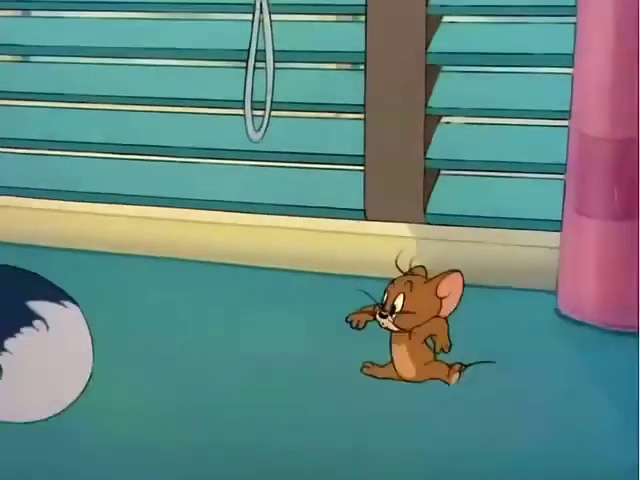jerry: (335, 247, 483, 400)
